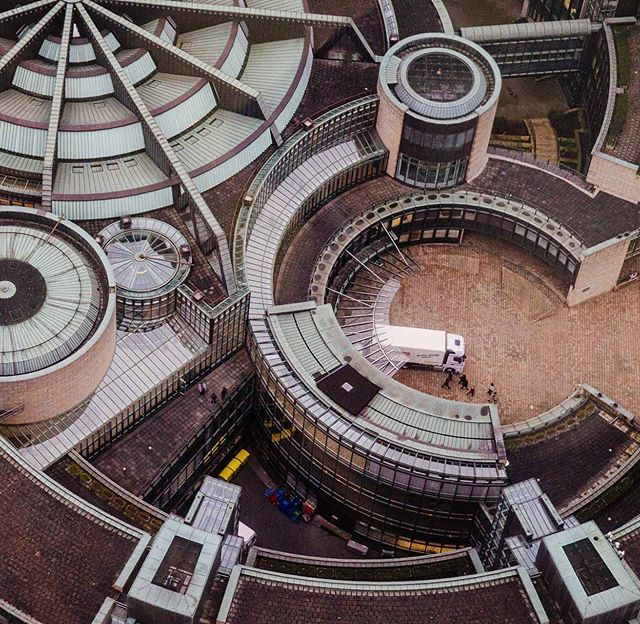building: (1, 1, 271, 606), (268, 136, 640, 537)
truck: (363, 328, 484, 379)
